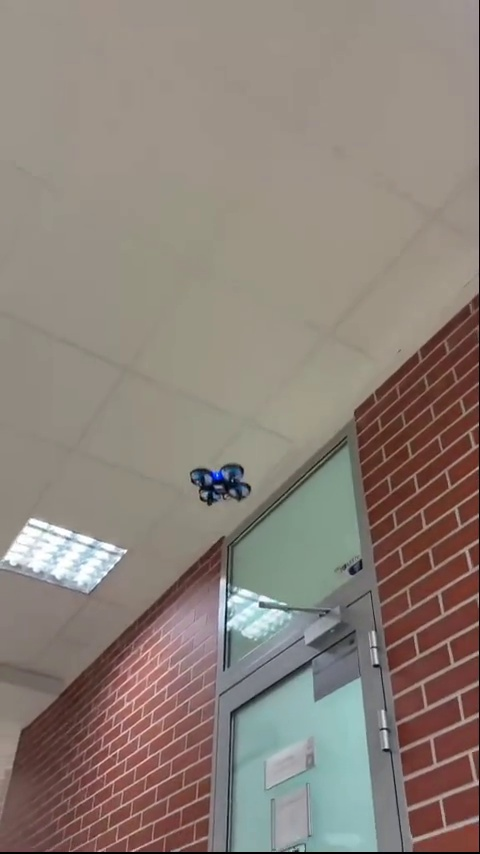drone: (188, 461, 259, 506)
